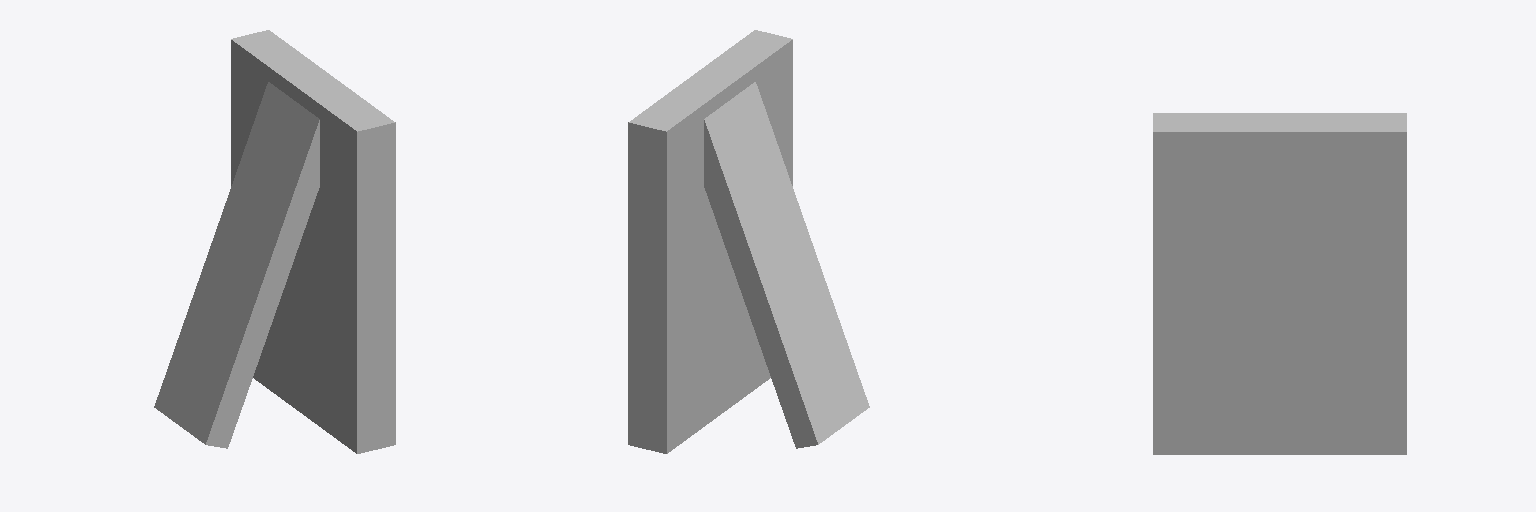
Rendered from enemy.obj.
3 renders of one model, left to right at view 1: azimuth 30°, elevation 25°; view 2: azimuth 150°, elevation 25°; view 3: azimuth 270°, elevation 25°, orthographic.
Parts seen in each view (by area): view 1: Cube; view 2: Cube; view 3: Cube.
Part boxes in pixels (left/top/right/bottom): Cube: left=154, top=30, right=395, bottom=453; Cube: left=628, top=30, right=869, bottom=453; Cube: left=1153, top=113, right=1406, bottom=454.
Size of the model in its own units: 0.9882 by 2 by 1.42.